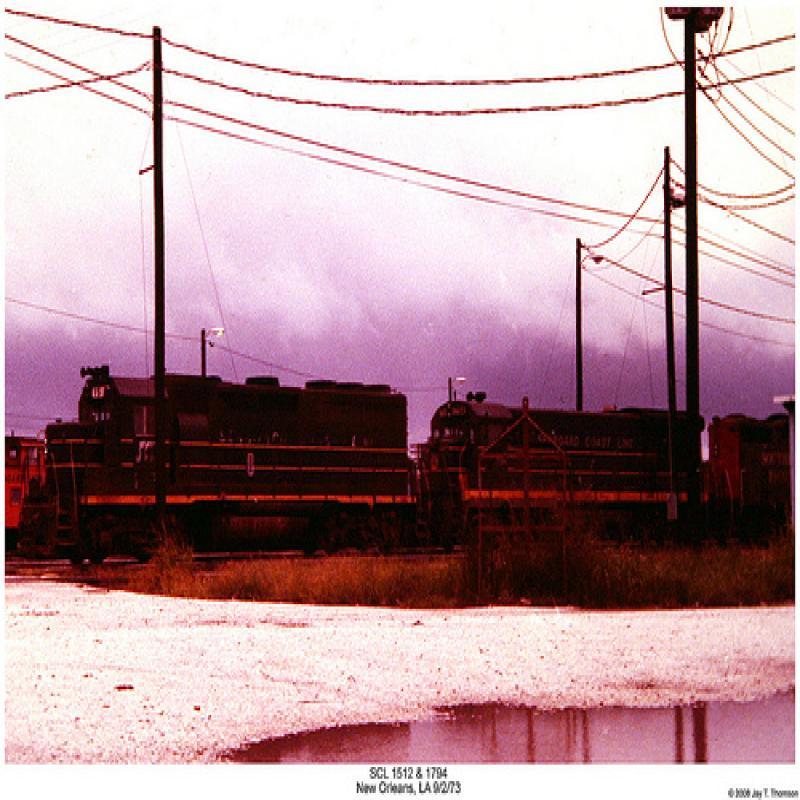train: (27, 372, 796, 570)
